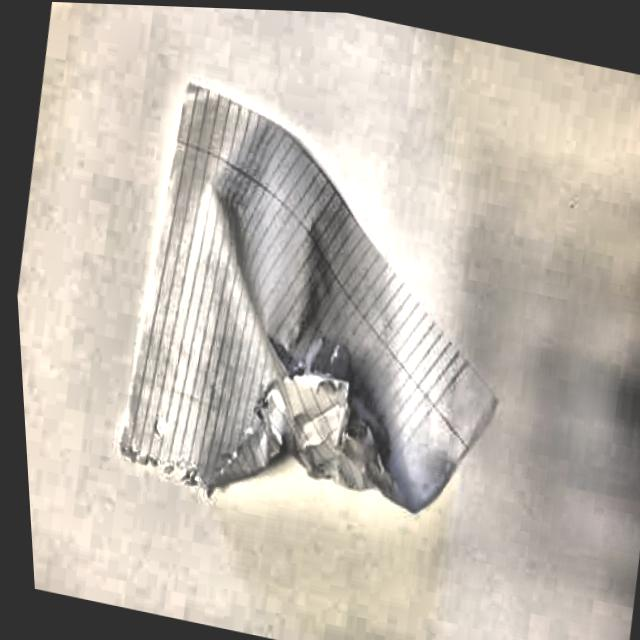Paper: (70, 48, 550, 568)
